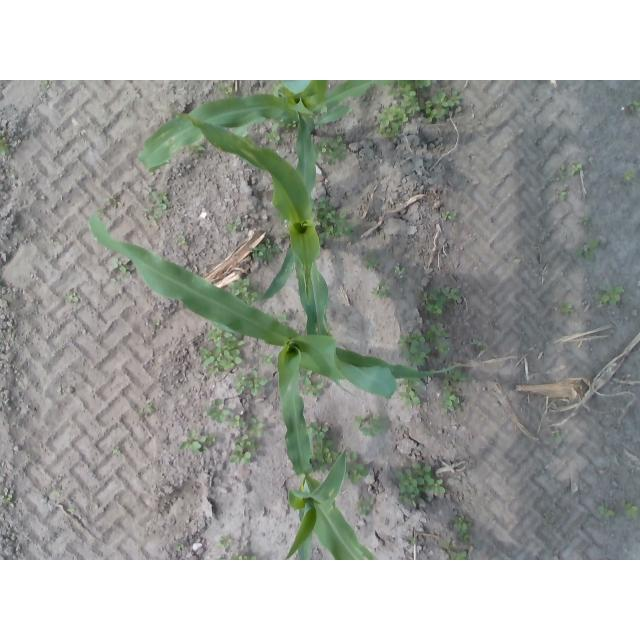Maize: (88, 209, 473, 476), (154, 108, 332, 337), (139, 80, 378, 173), (284, 369, 378, 560)
Weeds: (399, 464, 445, 501), (385, 81, 432, 116), (423, 90, 461, 119), (309, 424, 335, 465), (377, 103, 408, 135), (406, 335, 431, 365), (318, 137, 346, 163), (250, 241, 279, 264), (231, 434, 254, 463), (356, 411, 383, 435), (442, 386, 463, 414), (241, 372, 265, 396), (577, 239, 602, 262), (216, 349, 240, 370), (304, 377, 325, 400), (177, 434, 207, 450), (207, 330, 236, 346), (422, 295, 443, 316), (211, 400, 230, 423), (400, 388, 420, 409), (603, 287, 625, 305), (151, 192, 170, 212), (137, 400, 155, 420), (441, 286, 463, 302), (264, 125, 283, 143), (349, 454, 364, 476), (427, 321, 446, 338), (335, 213, 349, 235), (447, 545, 469, 559), (200, 346, 214, 367), (230, 279, 250, 293), (109, 258, 127, 273), (624, 502, 639, 519), (250, 417, 263, 436), (436, 342, 450, 359), (231, 412, 245, 428), (375, 285, 390, 299), (457, 517, 471, 532), (359, 499, 373, 514), (36, 81, 50, 95), (367, 255, 380, 270), (597, 504, 613, 516), (395, 263, 406, 279), (557, 165, 567, 182), (572, 164, 585, 177), (626, 101, 639, 114), (245, 291, 260, 302), (557, 185, 568, 200), (221, 535, 233, 548), (226, 219, 243, 228), (451, 371, 466, 381), (554, 431, 563, 446), (625, 170, 636, 182), (262, 353, 274, 364), (66, 293, 79, 303), (0, 138, 8, 154), (278, 311, 290, 321), (560, 304, 573, 313), (110, 446, 123, 455), (237, 556, 259, 561), (443, 209, 453, 219), (579, 216, 590, 225), (179, 235, 187, 247), (543, 510, 554, 518)
